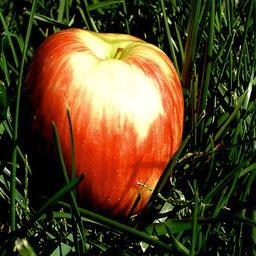apple: (23, 29, 184, 218)
